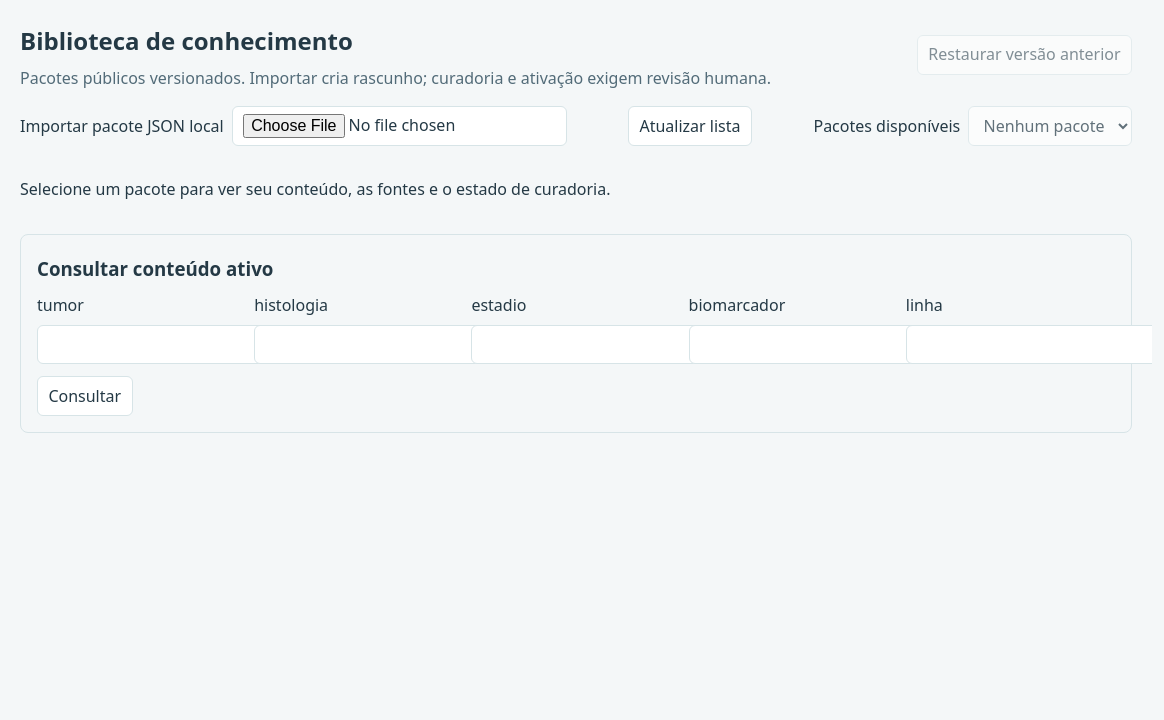
Test case: retira resultados antigos ao atualizar a biblioteca (versao)
Click the button "Consultar". click: (85, 396)
box: [37, 376, 132, 416]
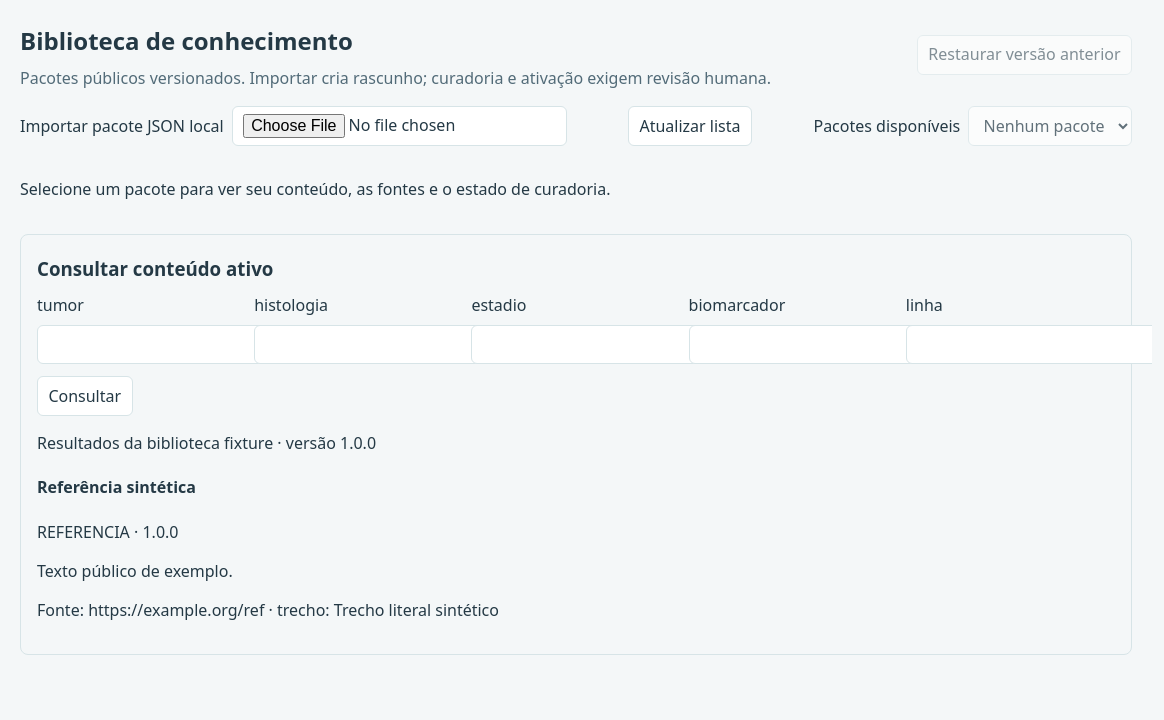
expect the text "Texto público de exemplo." is shown: met, box [37, 560, 233, 582]
expect the text "Resultados da biblioteca fixture · versão 1.0.0" is shown: met, box [37, 432, 376, 454]
Click the button "Atualizar lista". click: (690, 126)
box: [628, 106, 752, 146]
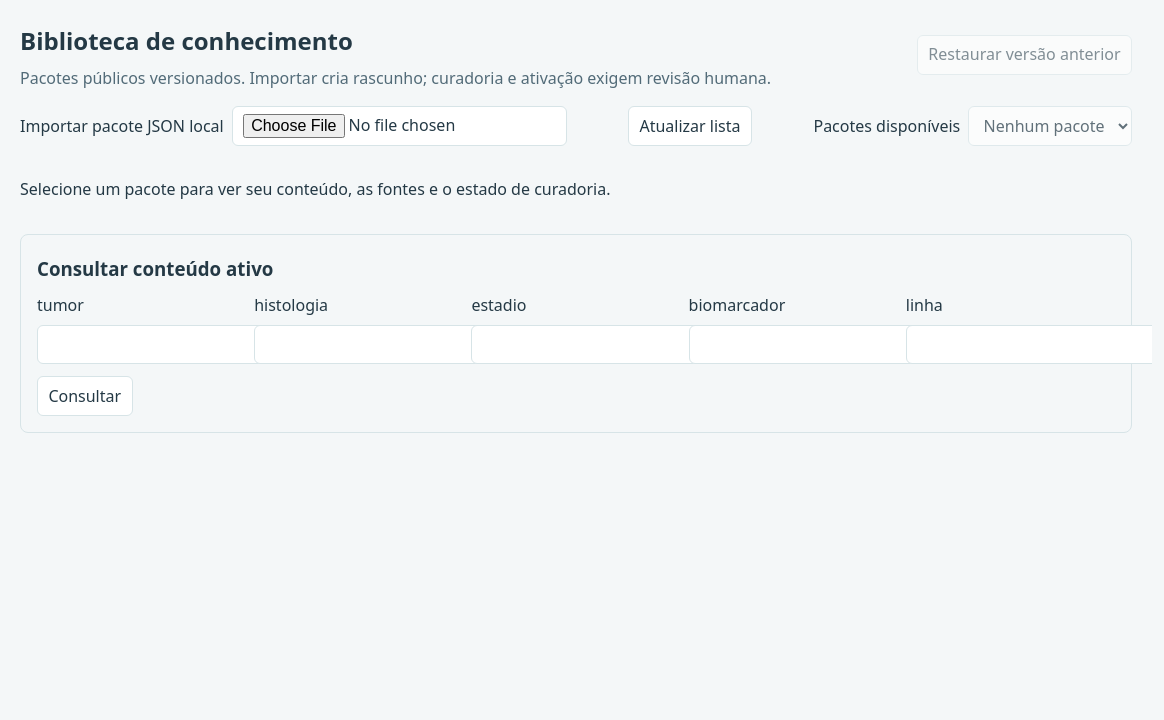
expect the text "Texto público de exemplo." is gone: met
expect the text "Resultados da biblioteca fixture" is gone: met
